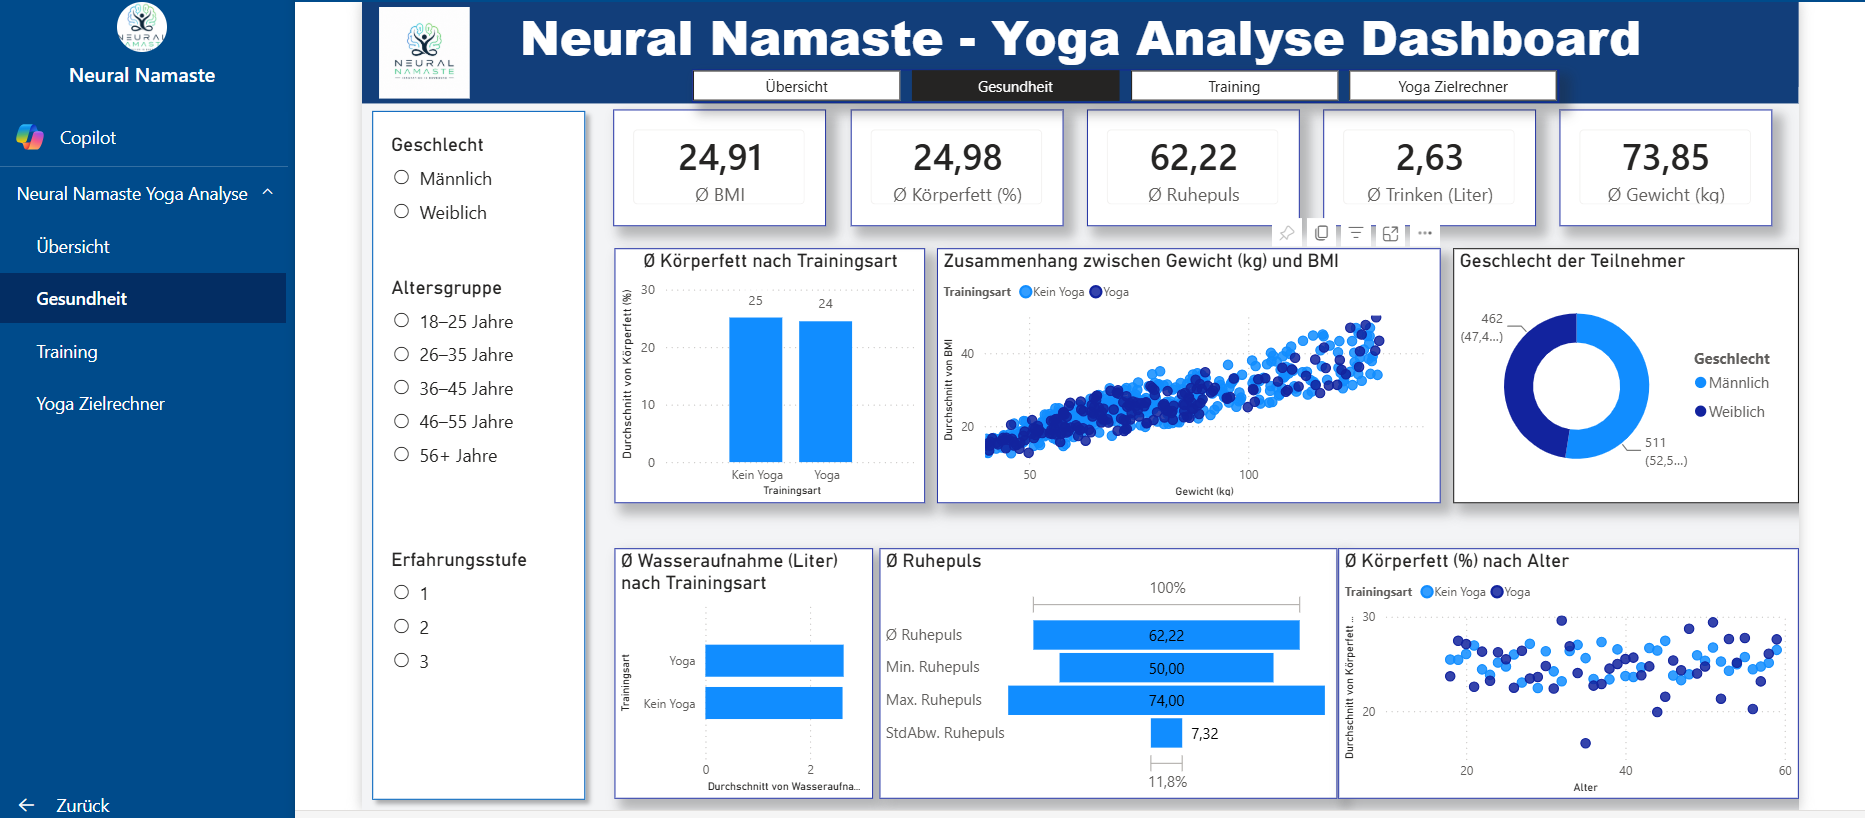

Layout of this report page (visuals, bound fields, positions):
{"tool":"powerbi","page":{"name":"Gesundheit","canvas":[1280,720],"ordinal":2},"visuals":[{"type":"shape","title":" Neural Namaste - Yoga Analyse Dashboard ","box":[0,0,1280.4,90.4],"z":0},{"type":"shape","box":[0,88,208,632],"z":1000},{"type":"cardVisual","fields":{"Data":["Avg(F_Training.BMI)"]},"box":[224.3,95.7,189.3,103.9],"z":2000},{"type":"cardVisual","fields":{"Data":["Avg(F_Training.Ruhepuls)"]},"box":[645.7,95.7,189.3,103.9],"z":3000},{"type":"cardVisual","fields":{"Data":["Avg(F_Training.Wasseraufnahme (Liter))"]},"box":[856.3,95.7,189.3,103.9],"z":4000},{"type":"cardVisual","fields":{"Data":["Avg(F_Training.Gewicht (kg))"]},"box":[1067,95.7,189.3,103.9],"z":5000},{"type":"lineClusteredColumnComboChart","title":"Ø Körperfett nach Trainingsart","fields":{"Category":["F_Training.Trainingsart"],"Y":["Avg(F_Training.Körperfett (%))"]},"box":[224.5,219.6,276.7,227.4],"z":6000},{"type":"image","box":[0,4.1,111.1,81.3],"z":7000},{"type":"barChart","title":"Ø Wasseraufnahme (Liter) nach Trainingsart","fields":{"Category":["F_Training.Trainingsart"],"Y":["Avg(F_Training.Wasseraufnahme (Liter))"]},"box":[224.5,486.7,230.3,223.5],"z":8000},{"type":"funnel","title":"Ø Ruhepuls","fields":{"Y":["Avg(F_Training.Ruhepuls)","Min(F_Training.Ruhepuls)","Max(F_Training.Ruhepuls)","StandardDeviation(F_Training.Ruhepuls)"]},"box":[461.5,486.7,408.3,223.5],"z":9000},{"type":"scatterChart","title":"Ø Körperfett (%) nach Alter","fields":{"X":["F_Training.Alter"],"Y":["Avg(F_Training.Körperfett (%))"],"Series":["F_Training.Trainingsart"]},"box":[869.8,486.7,410.2,223.5],"z":10000},{"type":"cardVisual","fields":{"Data":["Avg(F_Training.Körperfett (%))"]},"box":[435,95.7,189.3,103.9],"z":11000},{"type":"listSlicer","fields":{"Values":["D_Geschlecht.Geschlecht"]},"box":[21.6,117.3,148.2,111.1],"z":12000},{"type":"listSlicer","fields":{"Values":["D_Alter.Altersgruppe"]},"box":[21.6,243.9,159.5,202.7],"z":13000},{"type":"listSlicer","fields":{"Values":["F_Training.Erfahrungsstufe"]},"box":[21.6,486.7,164.6,156.4],"z":14000},{"type":"scatterChart","title":"Zusammenhang zwischen Gewicht (kg) und BMI ","fields":{"X":["F_Training.Gewicht (kg)"],"Y":["Avg(F_Training.BMI)"],"Series":["F_Training.Trainingsart"]},"box":[512.8,219.6,448.9,227.4],"z":15000},{"type":"donutChart","title":"Geschlecht der Teilnehmer","fields":{"Category":["F_Training.Geschlecht"],"Y":["M_Measures.Anzahl Personen"]},"box":[972.3,219.6,307.7,227.4],"z":16000},{"type":"pageNavigator","box":[294.1,60,773,30],"z":17000}]}

Visuals, with their boxes on the page's 1280x720 design canvas (x1, y1, x2, y2). These are canvas units, not pixel positions in the 1865x818 screenshot, which may show the page scaled, cropped or inside an application window:
" Neural Namaste - Yoga Analyse Dashboard " shape: bbox=[0, 0, 1280, 90]
shape: bbox=[0, 88, 208, 720]
cardVisual - Avg(F_Training.BMI): bbox=[224, 96, 414, 200]
cardVisual - Avg(F_Training.Ruhepuls): bbox=[646, 96, 835, 200]
cardVisual - Avg(F_Training.Wasseraufnahme (Liter)): bbox=[856, 96, 1046, 200]
cardVisual - Avg(F_Training.Gewicht (kg)): bbox=[1067, 96, 1256, 200]
"Ø Körperfett nach Trainingsart" lineClusteredColumnComboChart: bbox=[224, 220, 501, 447]
image: bbox=[0, 4, 111, 85]
"Ø Wasseraufnahme (Liter) nach Trainingsart" barChart: bbox=[224, 487, 455, 710]
"Ø Ruhepuls" funnel: bbox=[462, 487, 870, 710]
"Ø Körperfett (%) nach Alter" scatterChart: bbox=[870, 487, 1280, 710]
cardVisual - Avg(F_Training.Körperfett (%)): bbox=[435, 96, 624, 200]
listSlicer - D_Geschlecht.Geschlecht: bbox=[22, 117, 170, 228]
listSlicer - D_Alter.Altersgruppe: bbox=[22, 244, 181, 447]
listSlicer - F_Training.Erfahrungsstufe: bbox=[22, 487, 186, 643]
"Zusammenhang zwischen Gewicht (kg) und BMI " scatterChart: bbox=[513, 220, 962, 447]
"Geschlecht der Teilnehmer" donutChart: bbox=[972, 220, 1280, 447]
pageNavigator: bbox=[294, 60, 1067, 90]
